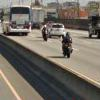Motorcycle: (57, 30, 79, 62)
